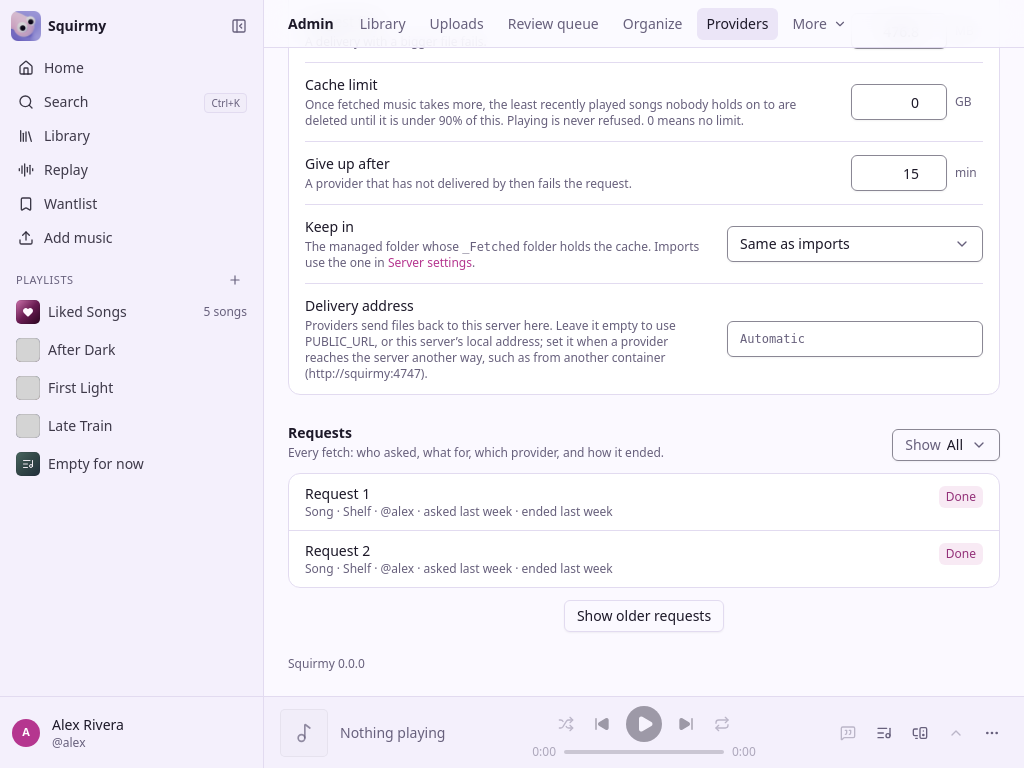
Test: admin pages › Providers lists every request, a page at a time
(page scrolled)
Click the button "Show older requests" at x=644, y=616, box [564,600,724,632]
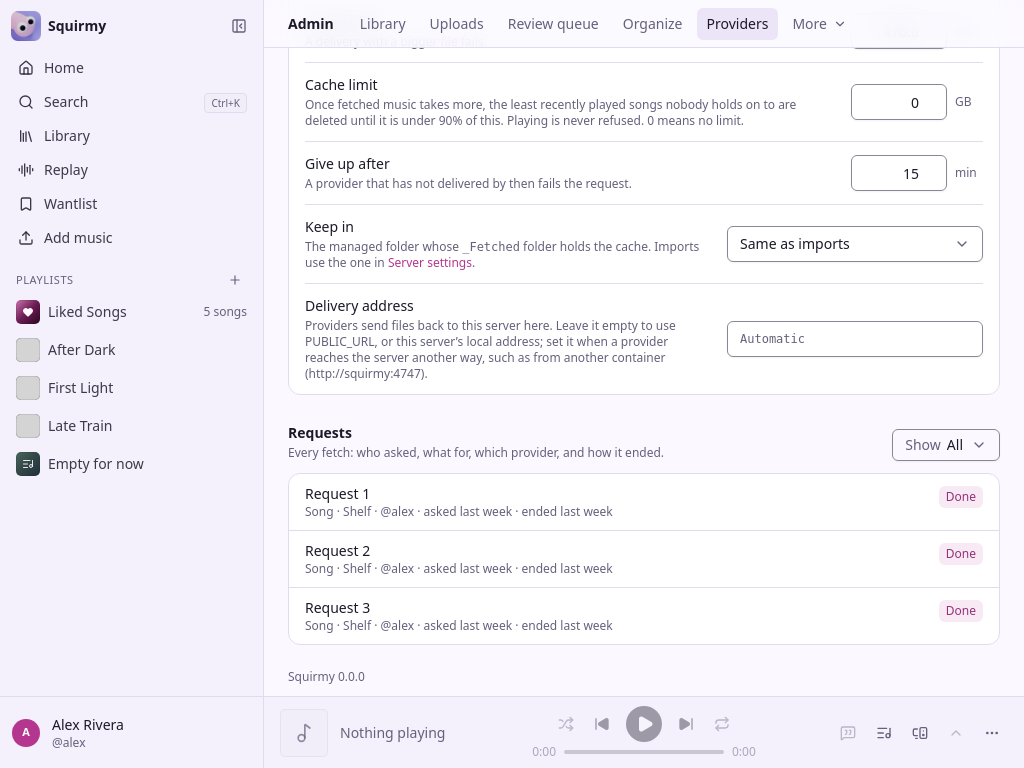
Now the text "Request 3" is shown, box [305,598,370,617]
Now the button "Show older requests" is gone
